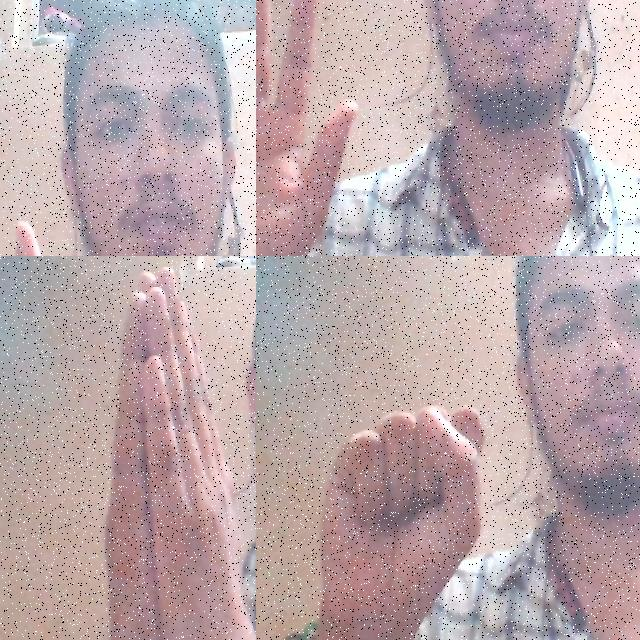Hello: (256, 0, 370, 256)
No: (301, 397, 498, 635)
Thank You: (79, 268, 256, 640)
